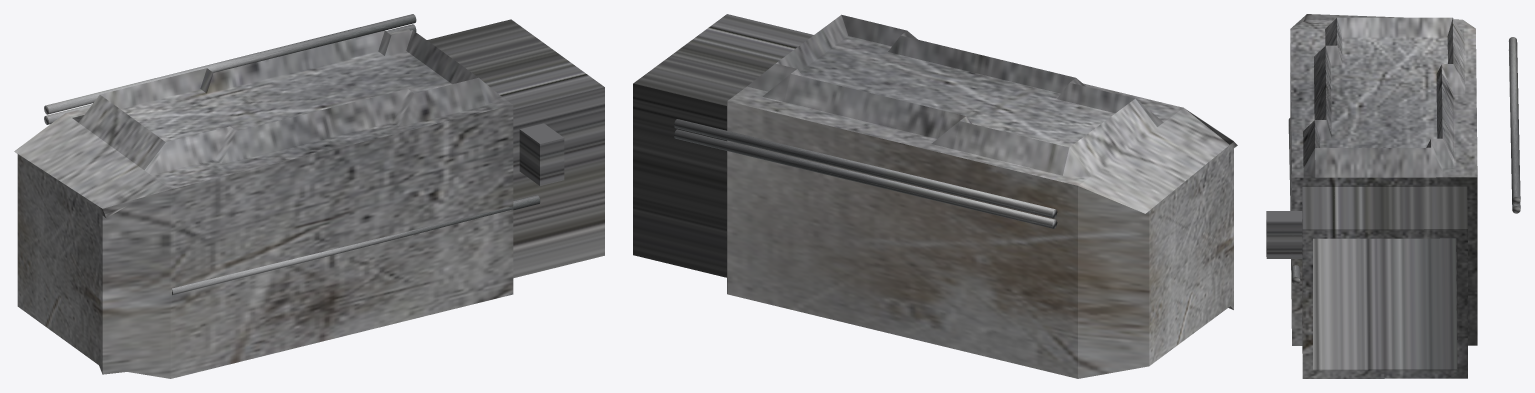
File: pieza20.fbx
3 views of the same model, side by side, from view 1: azimuth 30°, elevation 25°; view 2: azimuth 150°, elevation 25°; view 3: azimuth 270°, elevation 25° (orthographic). The views are drawn at different scales.
Visible parts, largest first — view 1: Cube; view 2: Cube; view 3: Cube.
Boxes of the visible parts, bbox=[...] form: Cube: bbox=[14, 14, 604, 378]; Cube: bbox=[633, 14, 1237, 378]; Cube: bbox=[1266, 14, 1520, 378].
Bounding box in the file's own units: 553 × 224 × 274.
4 materials, 4 textured.
